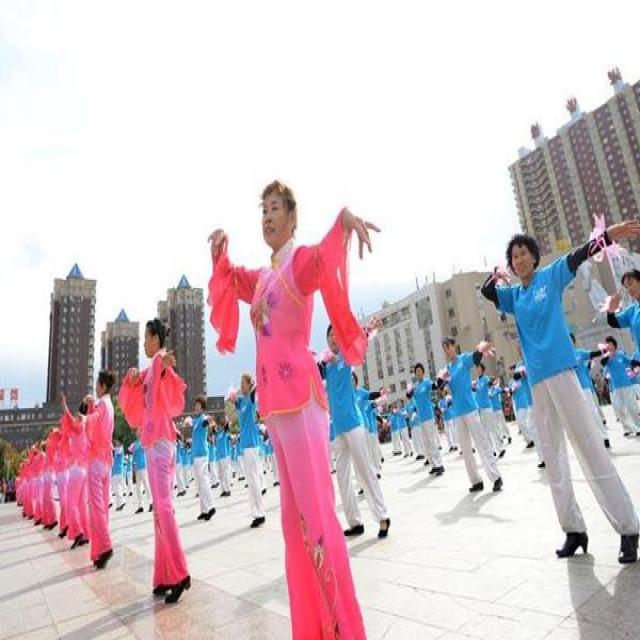non-fight: (203, 164, 401, 630), (469, 216, 637, 570), (105, 308, 211, 606)
